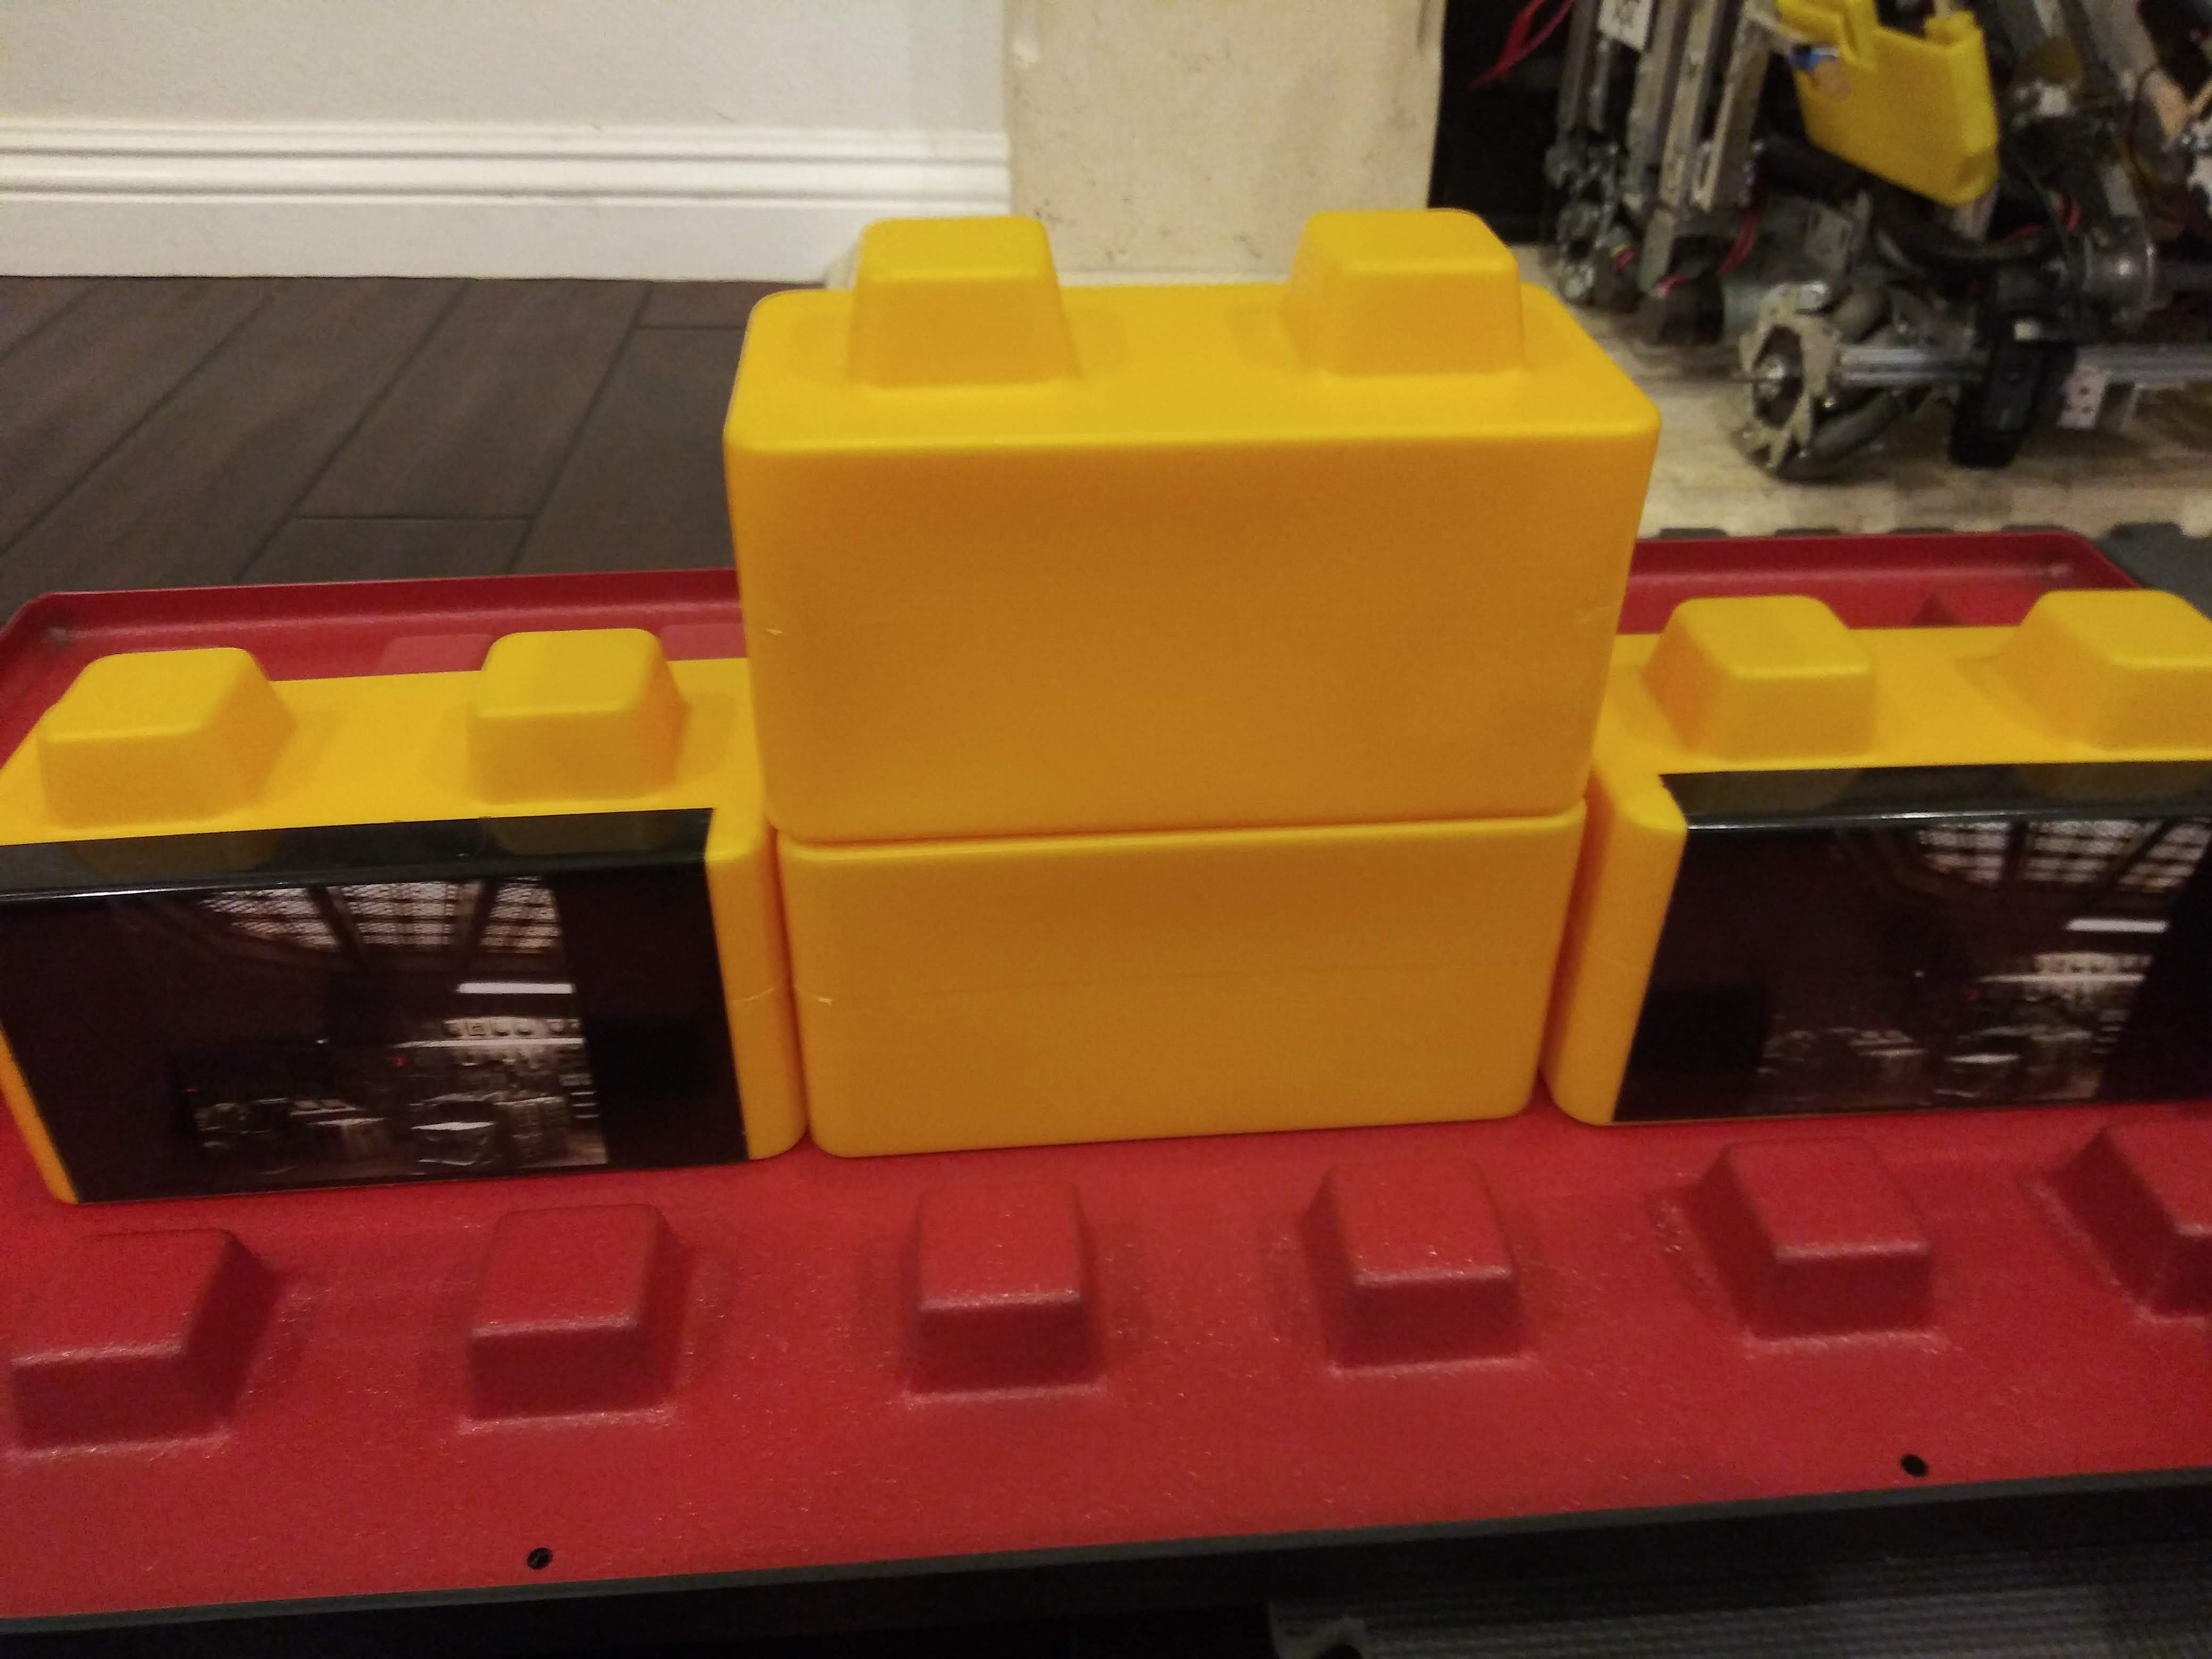skystone: (16, 714, 744, 1161), (1667, 647, 2175, 1114)
stone: (761, 270, 1597, 802), (780, 852, 1555, 1154)
